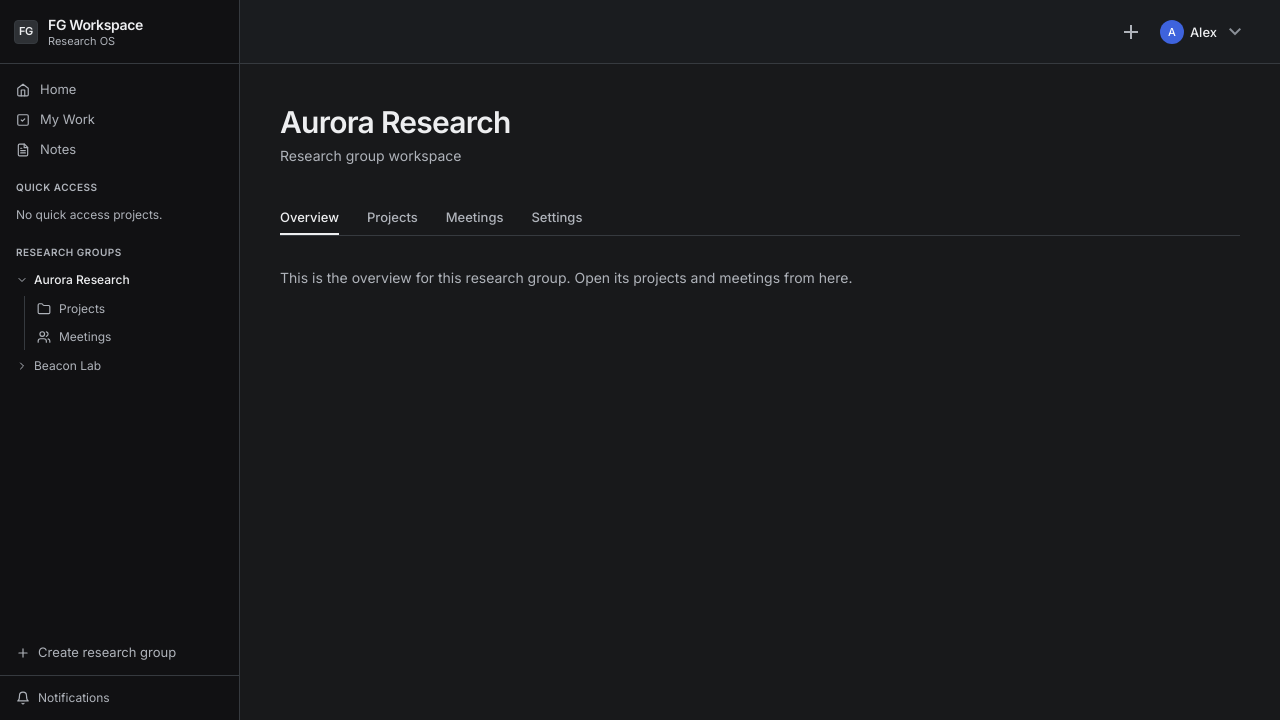
Scenario: Research Group workspace — shared layout + nested routes › keeps header + tabs when clicking Meetings and scopes the list to the URL group
Expected: the heading "Aurora Research" is shown, [280,104,511,140]
Click the link "Meetings" next to "Settings": (475, 216) [446,208,503,224]
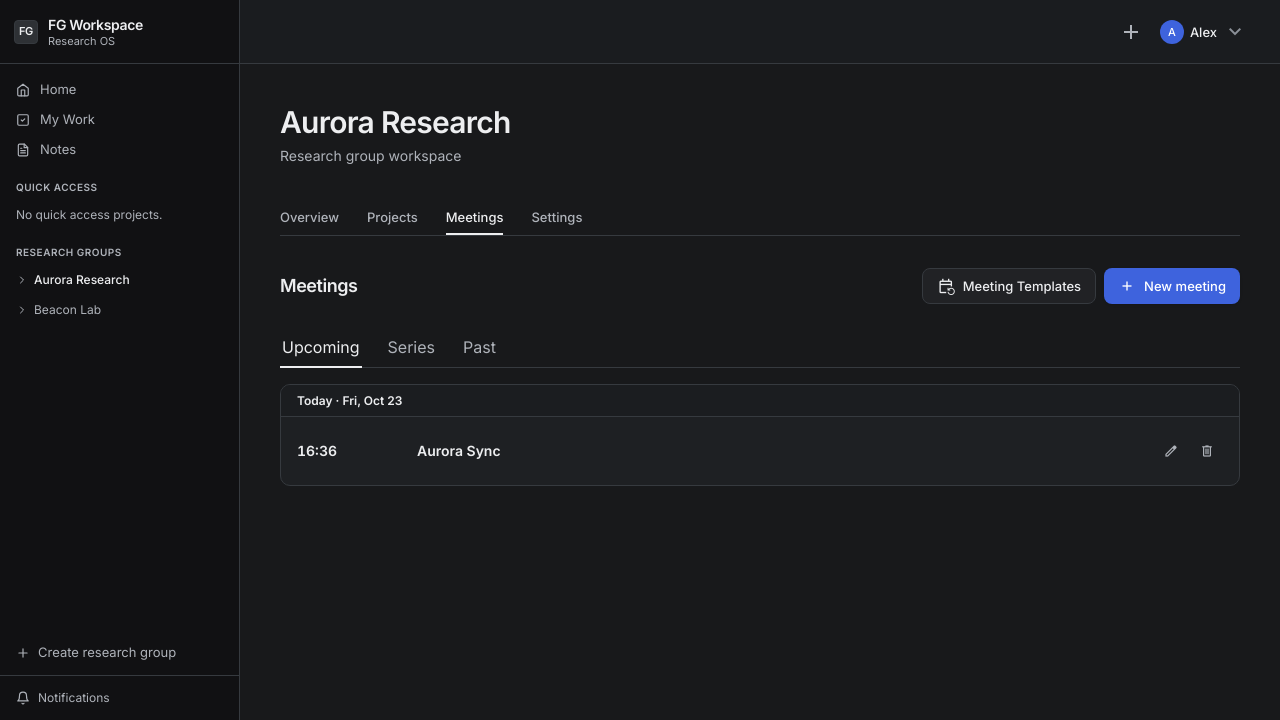
Expected: the text "Aurora Sync" is shown, [417,442,501,459]
Expected: the tabs read "Upcoming", "Series", "Past", in this order, [280,328,362,368]; [386,328,437,368]; [461,328,498,368]
Expected: the button "New meeting" is enabled, [1104,268,1240,304]
